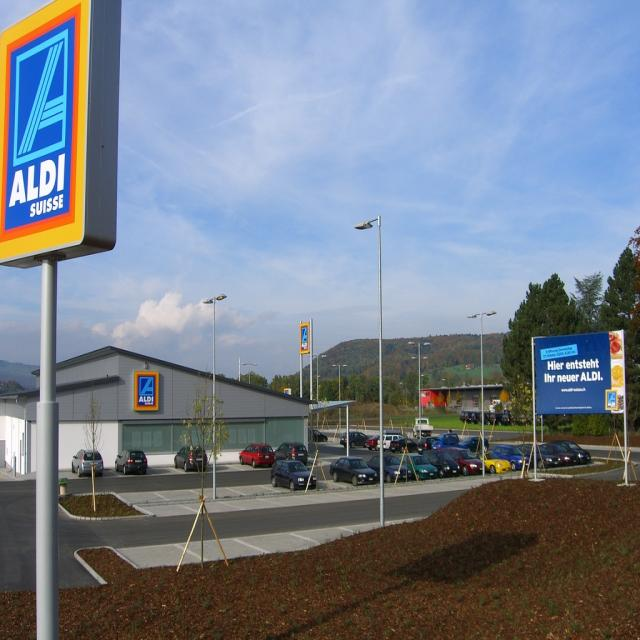aldi: (2, 2, 96, 261), (135, 372, 160, 412), (301, 323, 311, 355), (606, 389, 619, 411)
